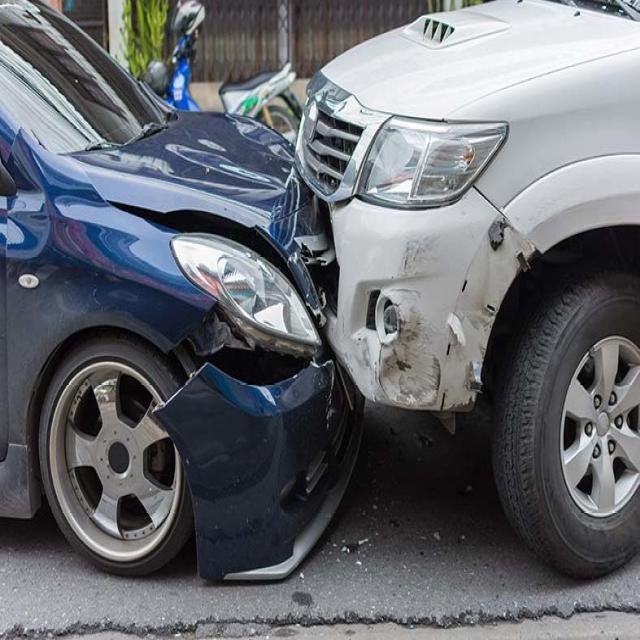Accident: (1, 2, 640, 592)
